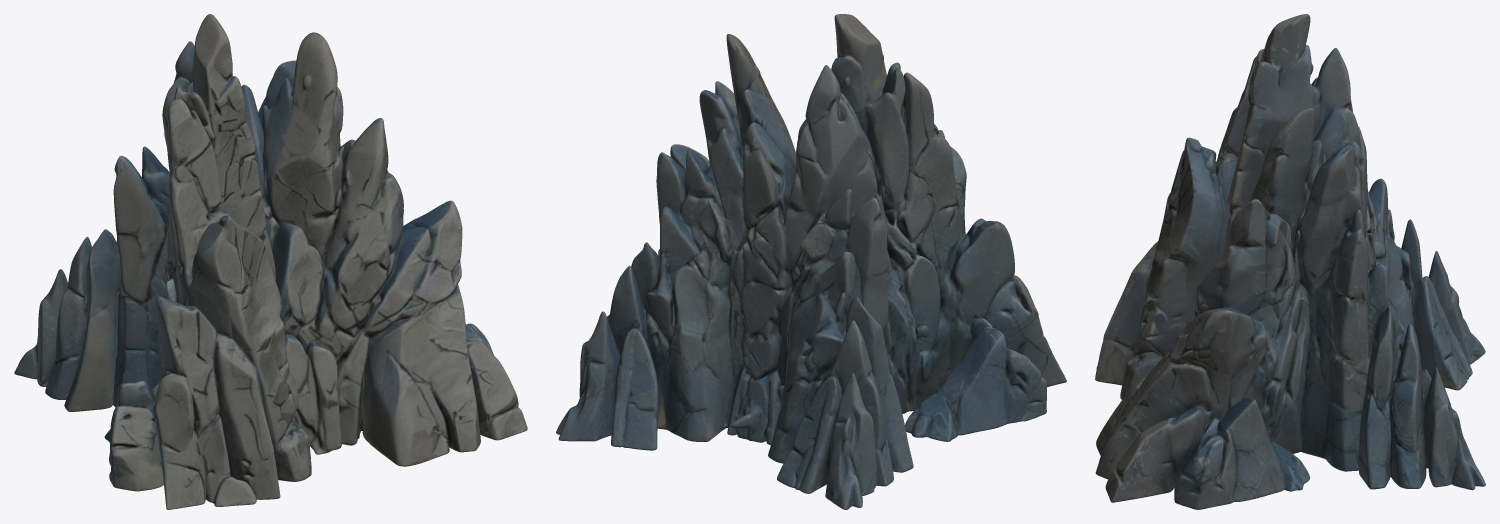
The model's file is stone_mountain2.glb.
3 renders of one model, left to right at view 1: azimuth 30°, elevation 25°; view 2: azimuth 150°, elevation 25°; view 3: azimuth 270°, elevation 25°, orthographic. The views are drawn at different scales.
Bounding box in the file's own units: 0.9999 × 0.9895 × 0.9021.
Materials: 1 (1 with a texture image).
